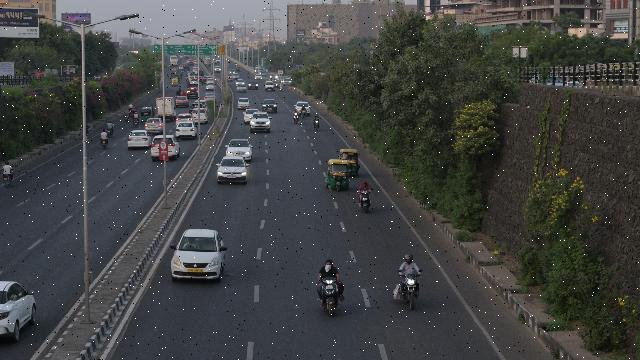With Helmet: (404, 253, 414, 263)
Without Helmet: (324, 261, 332, 270), (362, 181, 368, 187)
